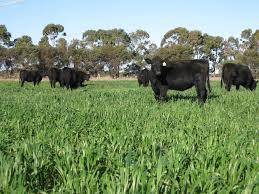cow: (144, 55, 213, 106), (219, 63, 259, 91), (18, 68, 48, 88), (61, 68, 76, 91), (49, 67, 60, 88), (138, 69, 149, 87)
